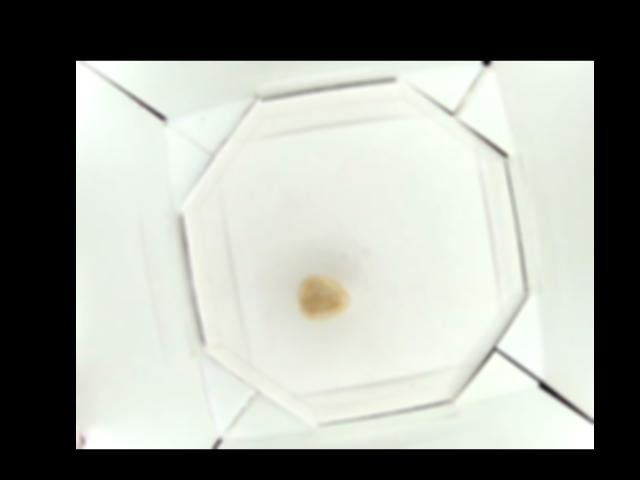Pebble: (298, 272, 348, 319)
